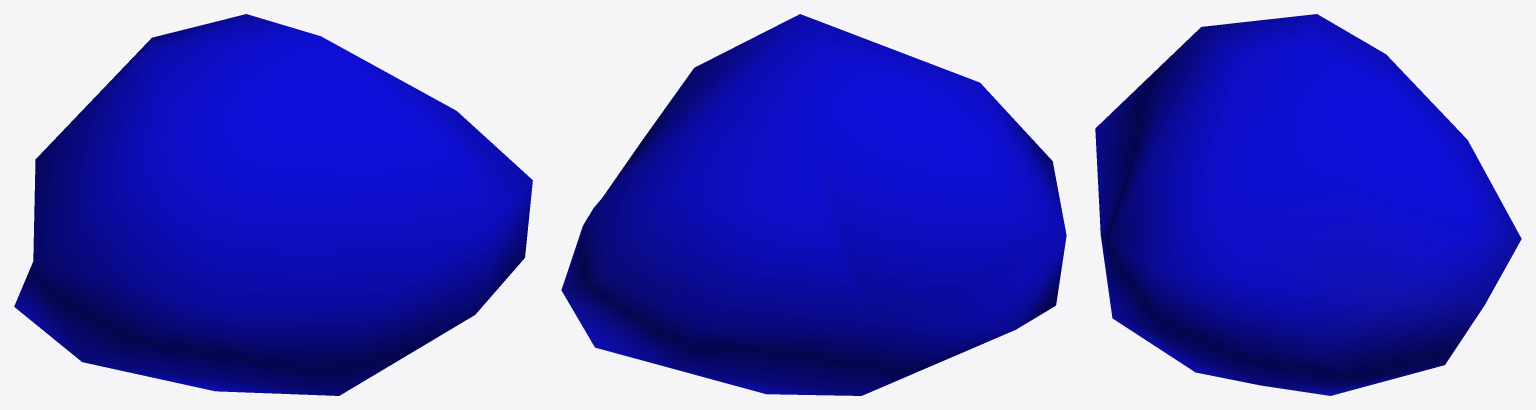
The model's file is rock2.fbx.
3 views of the same model, side by side, from view 1: azimuth 30°, elevation 25°; view 2: azimuth 150°, elevation 25°; view 3: azimuth 270°, elevation 25° (orthographic). The views are drawn at different scales.
Parts seen in each view (by area): view 1: Cube; view 2: Cube; view 3: Cube.
Boxes of the visible parts, x1=… form: Cube: x1=14, y1=14, x2=532, y2=395; Cube: x1=561, y1=14, x2=1066, y2=395; Cube: x1=1095, y1=14, x2=1521, y2=395.
Size of the model in its own units: 41.69 by 30.6 by 37.21.
